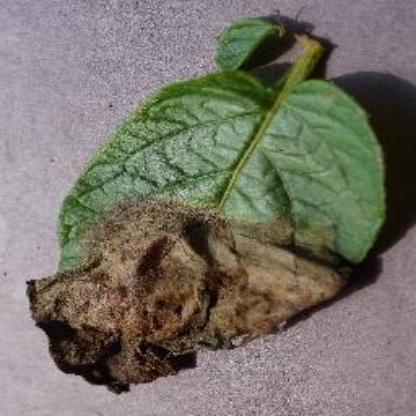Late-Blight: (17, 15, 402, 395)
